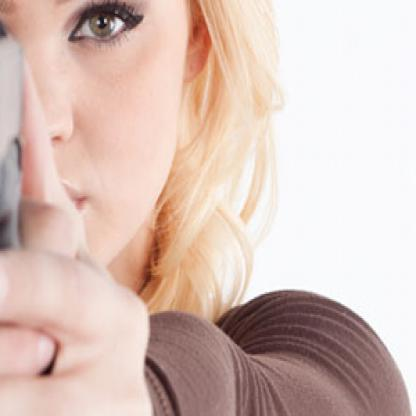gun: (0, 8, 61, 382)
